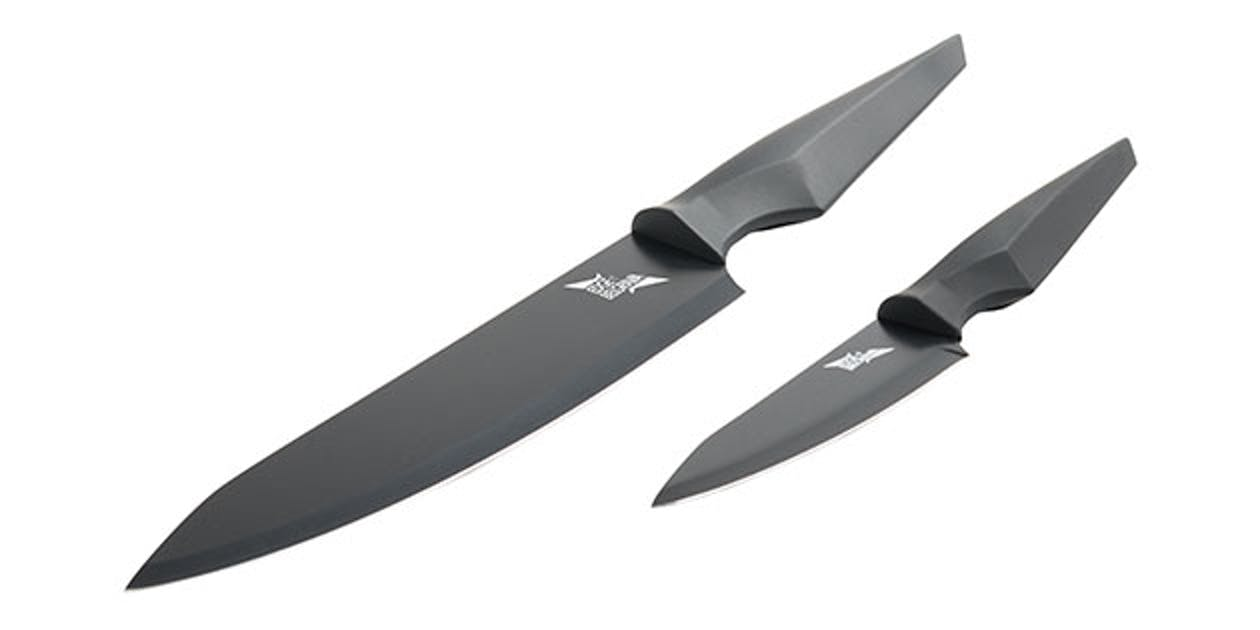knife: (133, 31, 966, 593), (648, 139, 1137, 505)
